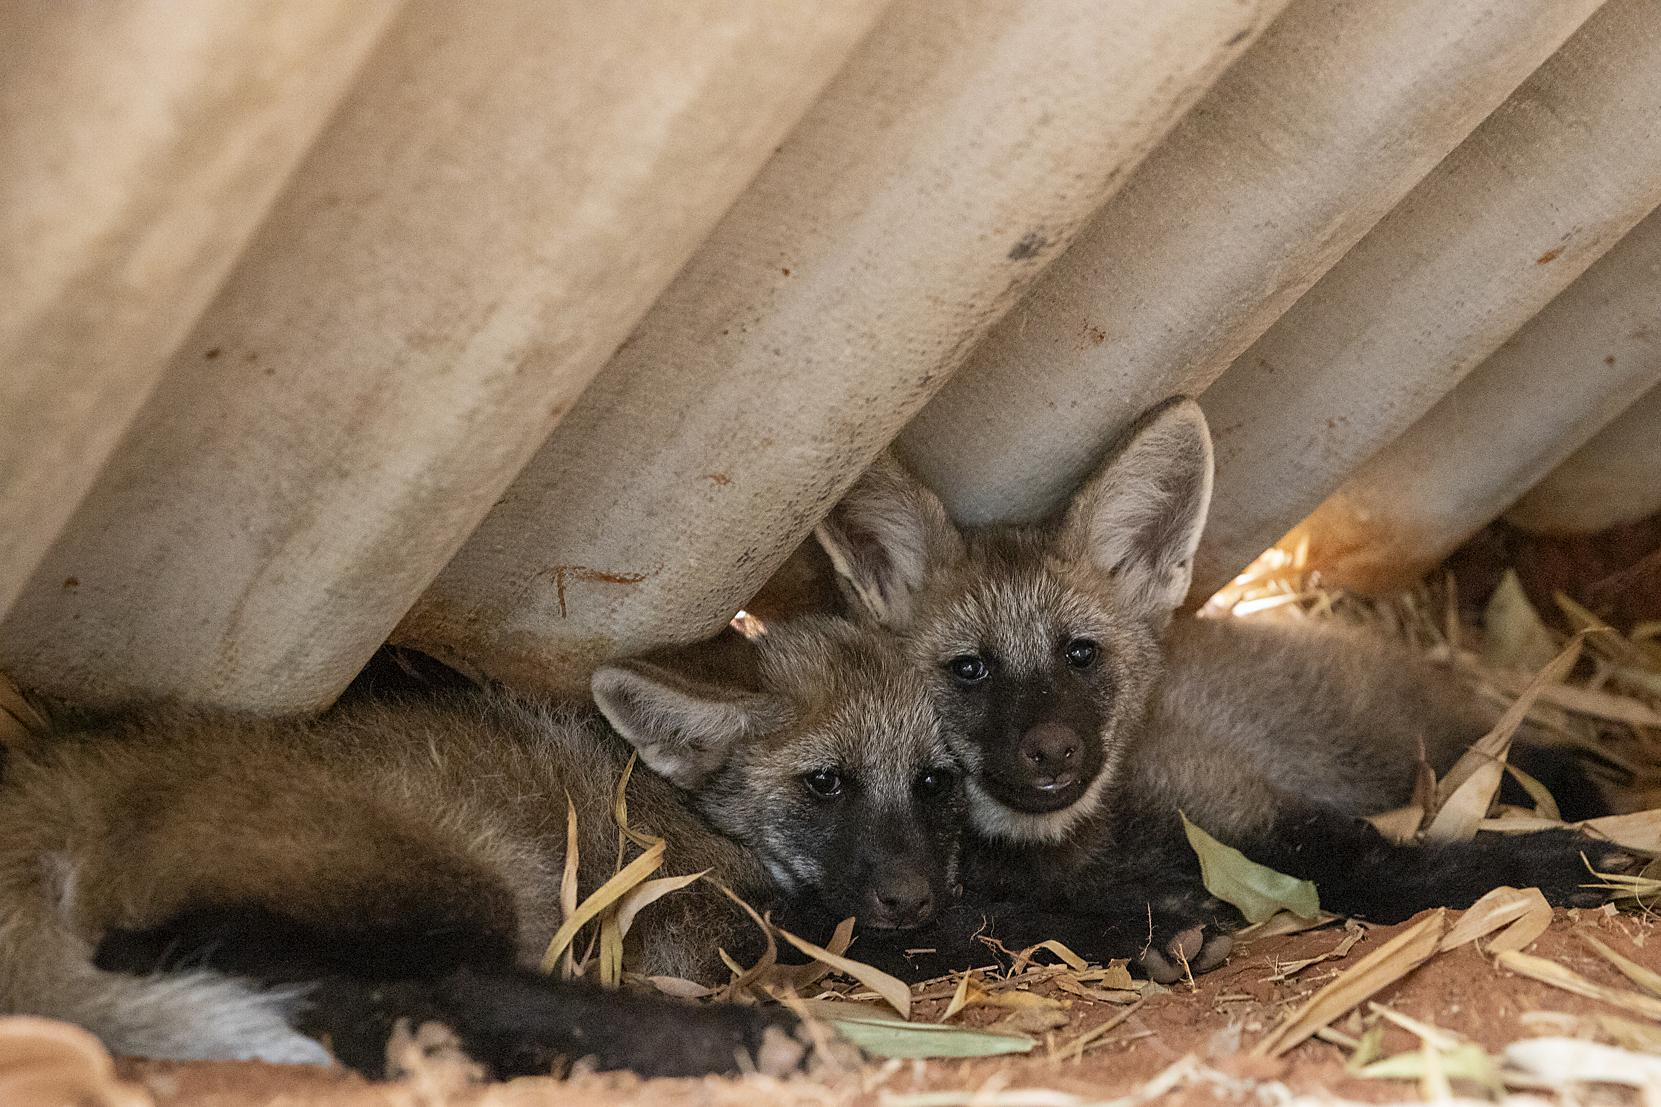LoboGuara: (803, 423, 1639, 974), (61, 610, 943, 1088)
